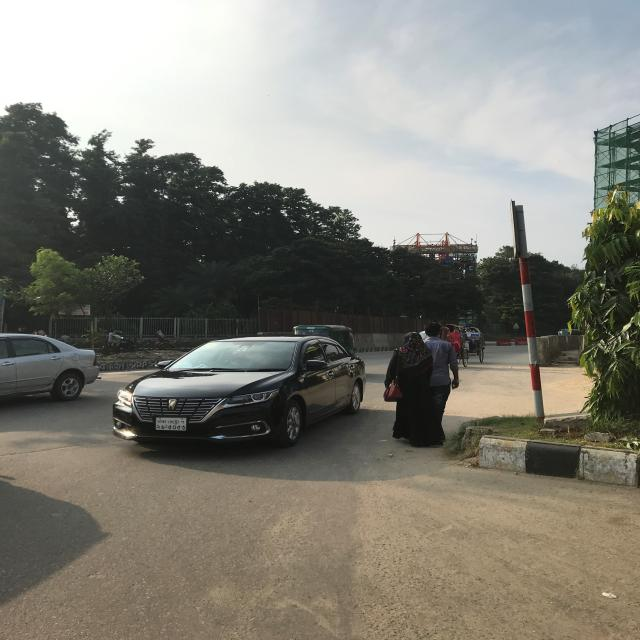black: (111, 337, 364, 449)
silver: (0, 334, 100, 406)
